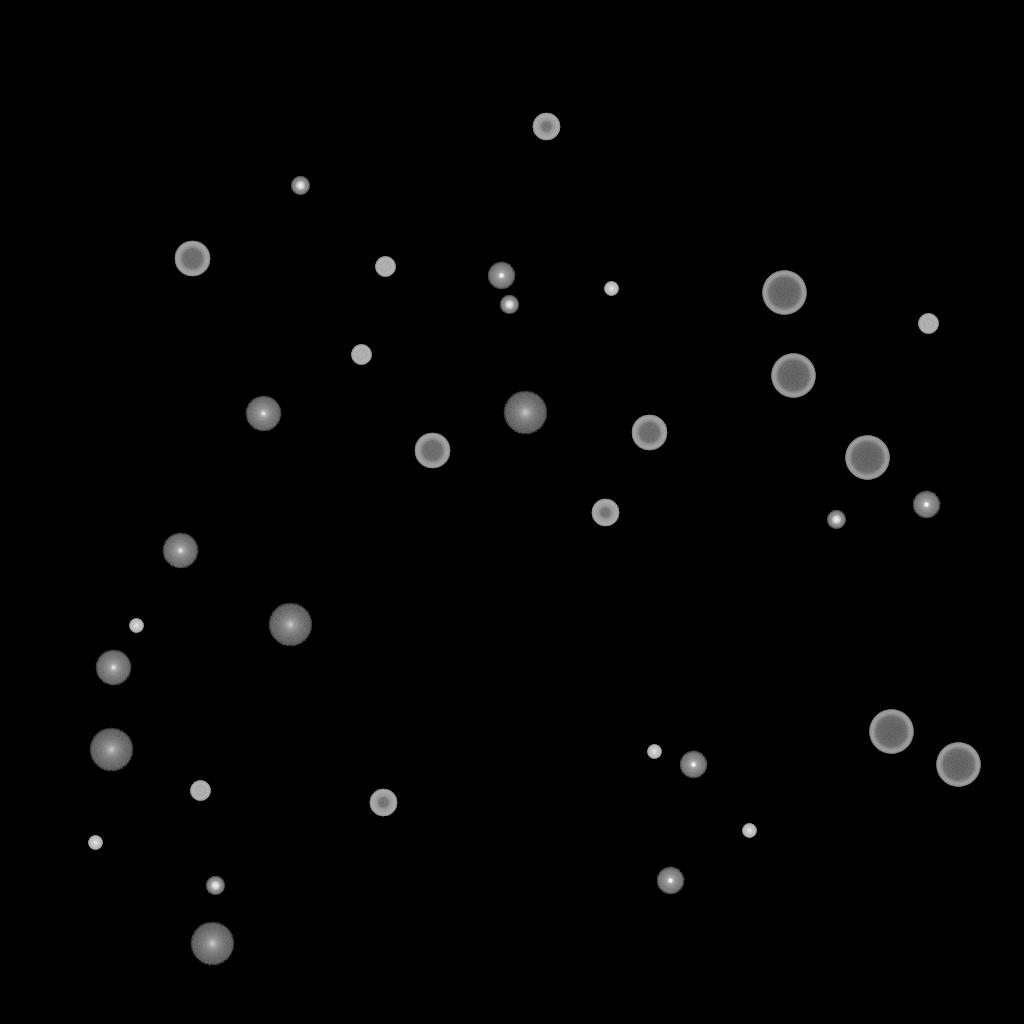depth:-10: (656, 867, 684, 895), (487, 262, 515, 290), (679, 751, 707, 779), (912, 491, 940, 519)
depth:-20: (206, 877, 224, 895), (291, 177, 309, 195), (827, 511, 845, 529), (500, 296, 518, 314)
depth:-30: (647, 745, 661, 759), (88, 836, 102, 850), (604, 282, 618, 296), (742, 824, 756, 838), (129, 619, 143, 633)
depth:-40: (190, 781, 210, 801), (351, 345, 371, 365), (918, 314, 938, 334), (375, 257, 395, 277)
depth:-50: (369, 789, 397, 817), (591, 499, 619, 527), (532, 113, 560, 141)
depth:-60: (631, 415, 667, 451), (174, 241, 210, 277), (414, 433, 450, 469)
depth:-70: (845, 436, 889, 480), (771, 354, 815, 398), (762, 271, 806, 315), (869, 710, 913, 754), (936, 743, 980, 787)
depth:0: (245, 396, 281, 432), (162, 533, 198, 569), (95, 650, 131, 686)
depth:10: (268, 603, 312, 647), (503, 391, 547, 435), (89, 728, 133, 772), (190, 922, 234, 966)
